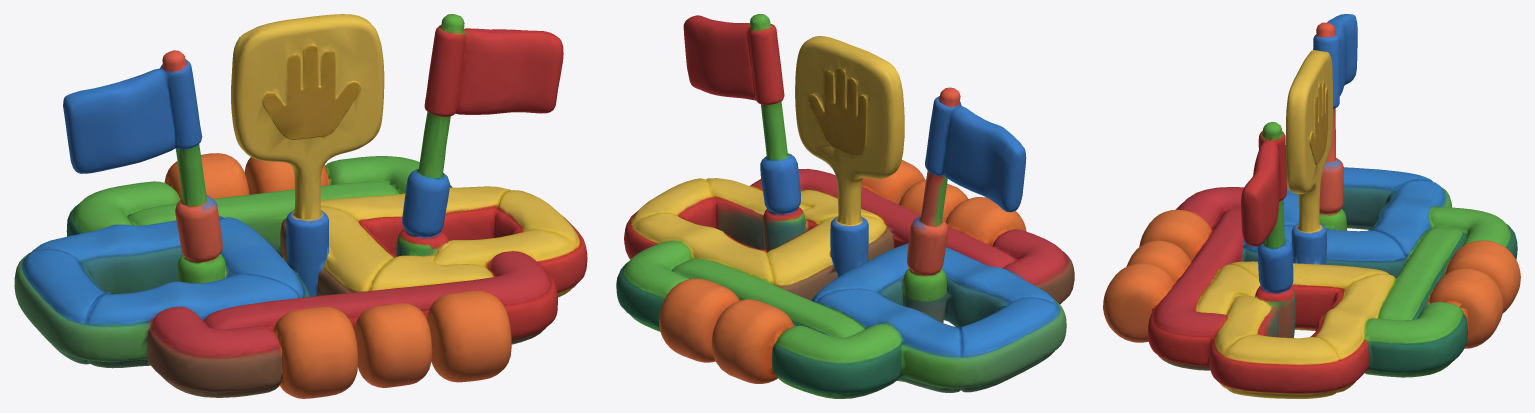
The model's file is arena_props.glb.
The picture shows the model from 3 angles, left to right: view 1: azimuth 30°, elevation 25°; view 2: azimuth 150°, elevation 25°; view 3: azimuth 270°, elevation 25°; orthographic projection. The views are drawn at different scales.
Parts seen in each view (by area): view 1: tripo_node_24e2c6f9-3514-4e2e-84b4-667d3efd3764; view 2: tripo_node_24e2c6f9-3514-4e2e-84b4-667d3efd3764; view 3: tripo_node_24e2c6f9-3514-4e2e-84b4-667d3efd3764.
Boxes of the visible parts, x1,y1,x2,y2 form: tripo_node_24e2c6f9-3514-4e2e-84b4-667d3efd3764: (14,14,587,398); tripo_node_24e2c6f9-3514-4e2e-84b4-667d3efd3764: (616,14,1074,398); tripo_node_24e2c6f9-3514-4e2e-84b4-667d3efd3764: (1103,14,1520,398).
Bounding box in the file's own units: 0.5157 × 0.3 × 0.4589.
Materials: 1 (1 with a texture image).
